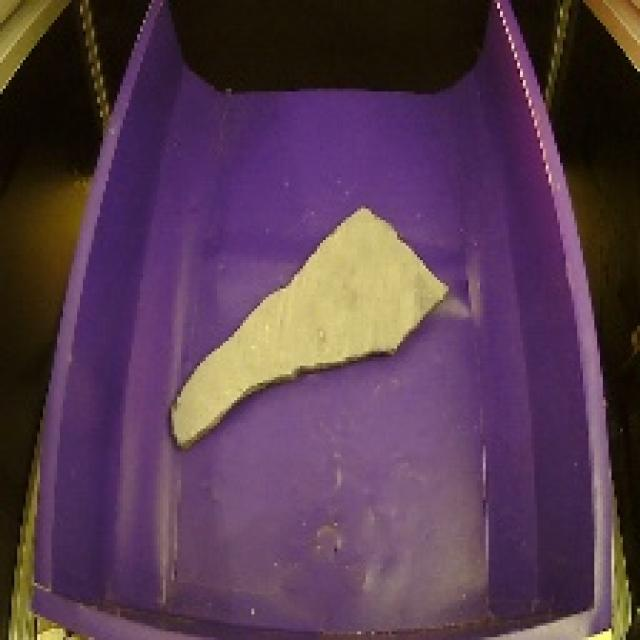china: (166, 188, 462, 455)
